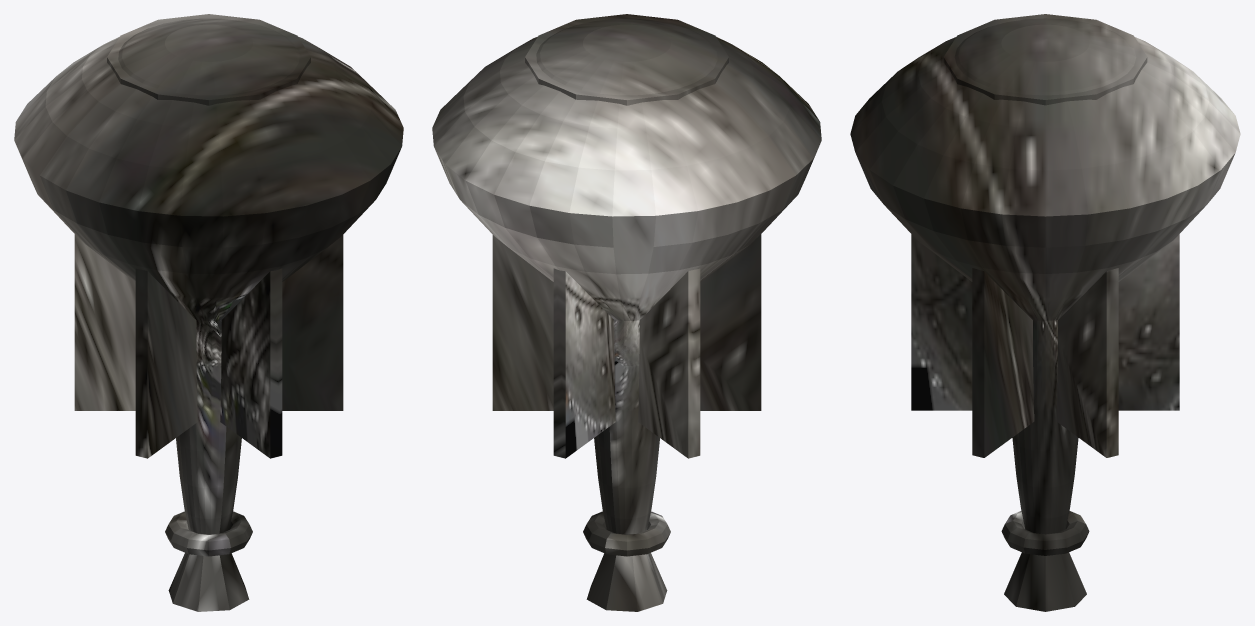
Rendered from bloon_lead.glb.
3 renders of one model, left to right at view 1: azimuth 30°, elevation 25°; view 2: azimuth 150°, elevation 25°; view 3: azimuth 270°, elevation 25°, orthographic.
Parts seen in each view (by area): view 1: bloon_lead; view 2: bloon_lead; view 3: bloon_lead.
Part boxes in pixels (x1,y1,x2,y2): bloon_lead: (14, 14, 403, 611); bloon_lead: (432, 14, 821, 611); bloon_lead: (850, 14, 1240, 611).
Size of the model in its own units: 0.7965 by 1.25 by 0.7965.
Materials: 1 (1 with a texture image).
